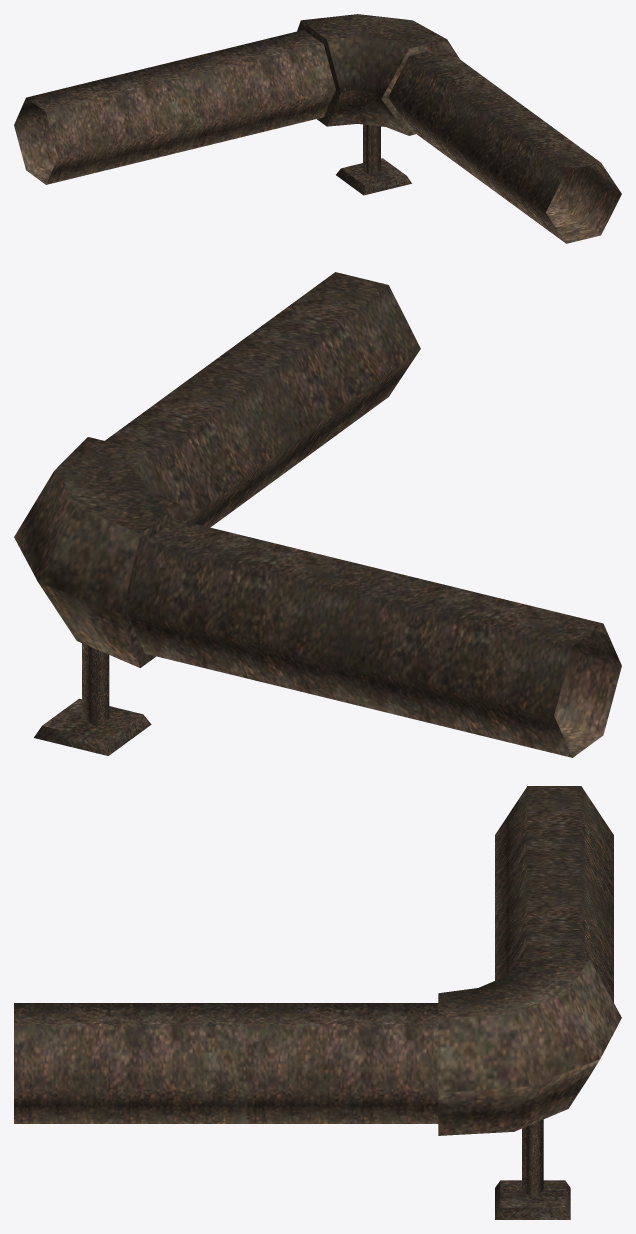
File: pipes_ceiling_l_support.fbx
3 views of the same model, one above another, from view 1: azimuth 30°, elevation 25°; view 2: azimuth 150°, elevation 25°; view 3: azimuth 270°, elevation 25° (orthographic). The views are drawn at different scales.
Parts seen in each view (by area): view 1: mesh_0; view 2: mesh_0; view 3: mesh_0.
Boxes of the visible parts, <box> form: mesh_0: <box>14,14,621,243</box>; mesh_0: <box>14,272,621,757</box>; mesh_0: <box>14,786,621,1219</box>.
Bounding box in the file's own units: 113 × 43 × 113.
Materials: 1 (1 with a texture image).
